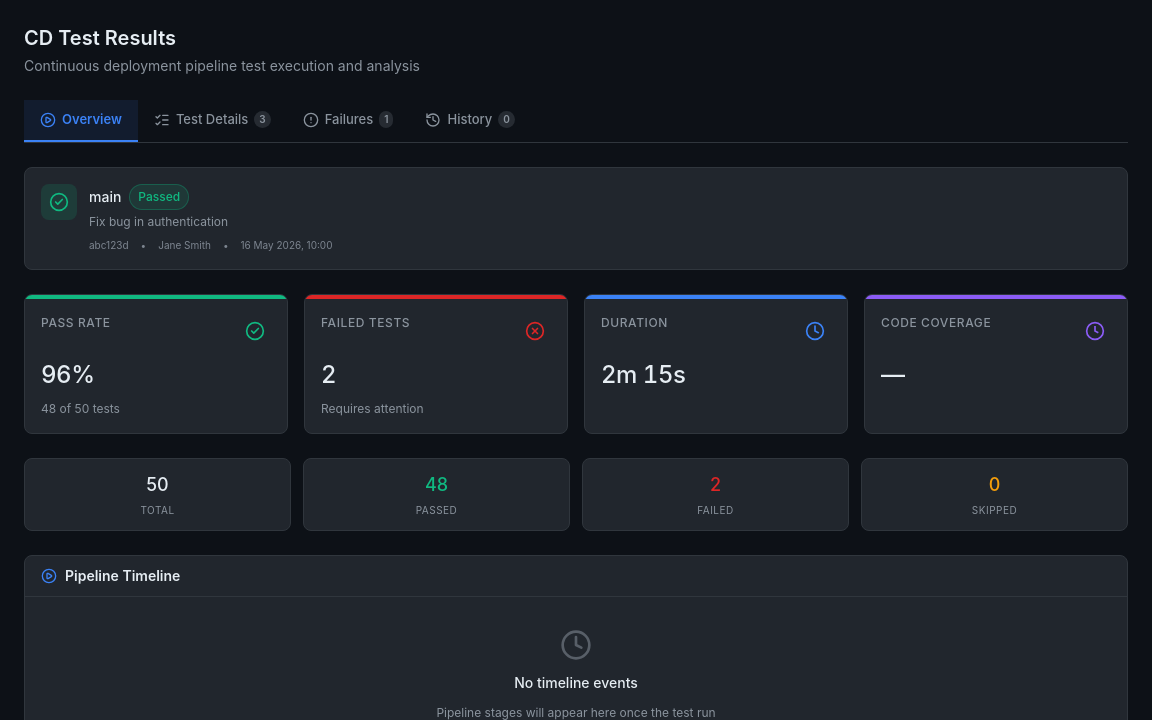
Scenario: TestResultsView › displays failure details in Failures tab
This screenshot has width=1152, height=720.
Navigate to Failures tab
Click the tab "Failures 1" at (348, 121), box [287,100,410,142]
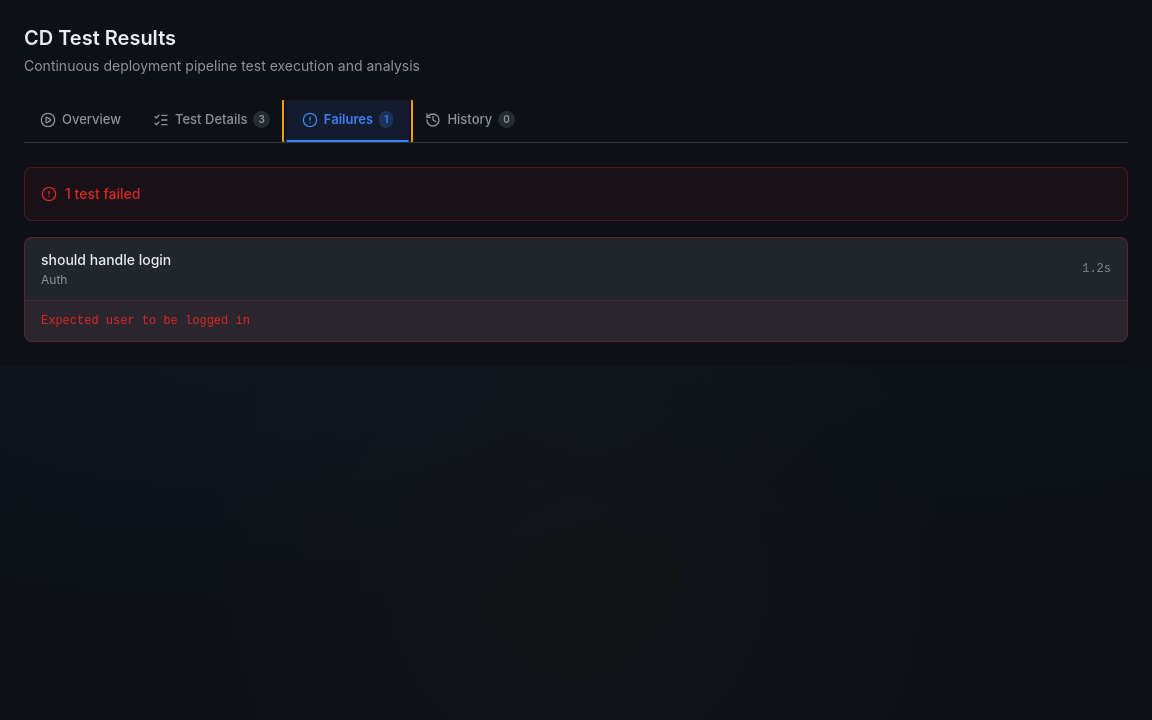
Expected: the text "should handle login" is shown, [41,250,171,270]
Expected: the text "Expected user to be logged in" is shown, [41,314,250,328]
